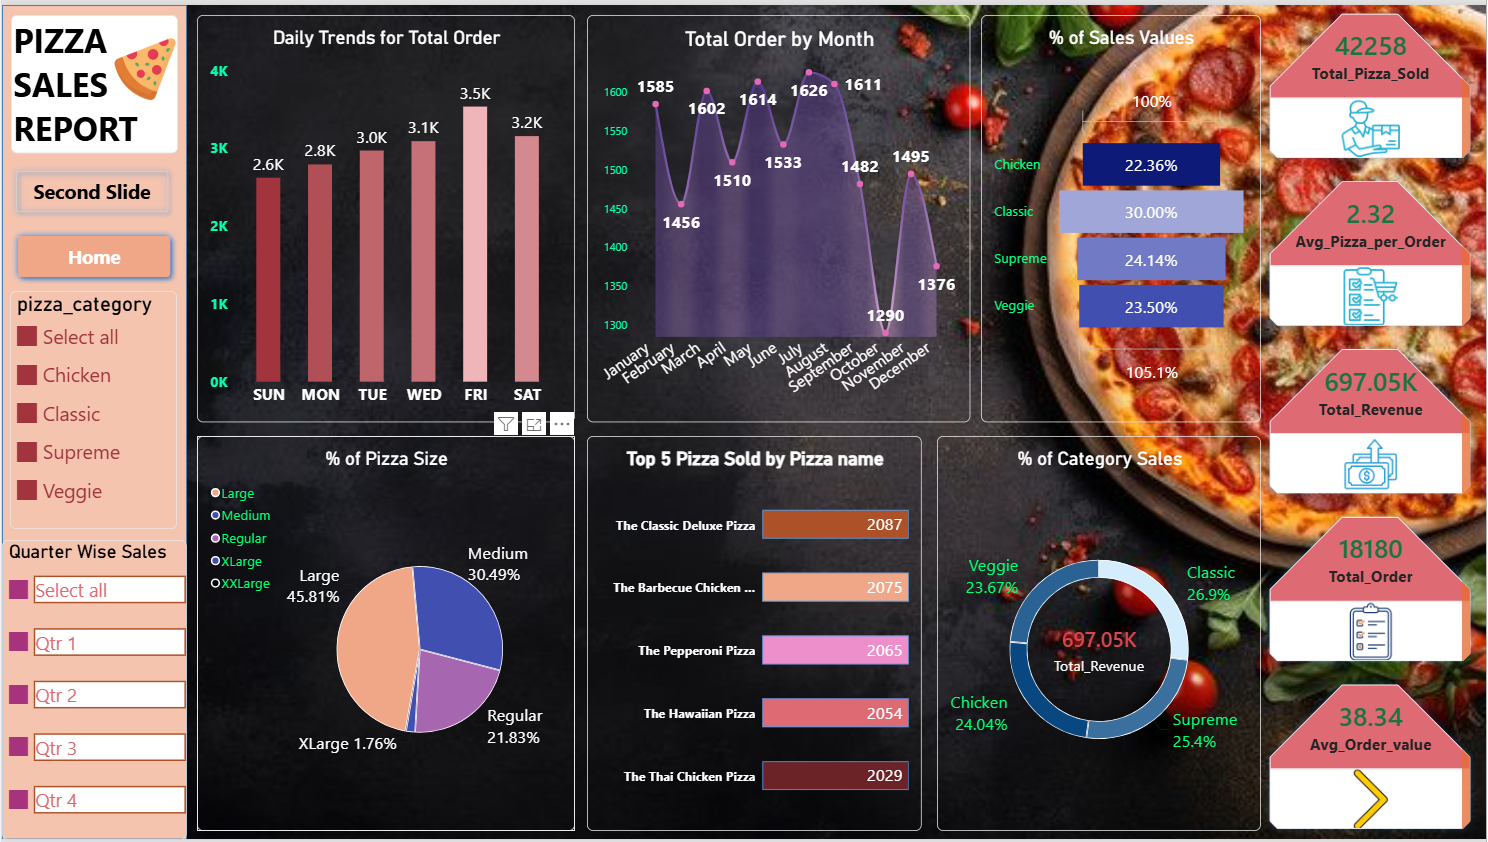

The dashboard page shown, as its layout file describes it:
{"tool":"powerbi","page":{"name":"Home","canvas":[1920,1080],"ordinal":0},"visuals":[{"type":"shape","box":[0,0,239.3,1079.6],"z":0},{"type":"cardVisual","fields":{"Data":["pizza_sales.Total_Pizza_Sold","pizza_sales.Avg_Pizza_per_Order","pizza_sales.Total_Revenue","pizza_sales.Total_Order","pizza_sales.Avg_Order_value"]},"box":[1628.9,0,282,1079],"z":1000},{"type":"textbox","box":[11.7,13.1,215.9,179.5],"z":2000},{"type":"image","box":[143,13.1,83.2,140.1],"z":3000},{"type":"columnChart","title":"Daily Trends for Total Order","fields":{"Category":["pizza_sales.Order Day"],"Y":["pizza_sales.Total_Order"]},"box":[252.4,12.6,488.5,527.4],"z":4000},{"type":"areaChart","title":"Total Order by Month","fields":{"Y":["pizza_sales.Total_Order"],"Category":["pizza_sales.Month Name"]},"box":[757.3,12.6,496,527.4],"z":5000},{"type":"donutChart","title":"% of Category Sales","fields":{"Category":["pizza_sales.pizza_category"],"Y":["pizza_sales.Total_Revenue"]},"box":[1209.3,557.6,419.4,511.1],"z":6000},{"type":"pieChart","title":"% of Pizza Size","fields":{"Category":["pizza_sales.pizza_size"],"Y":["pizza_sales.Total_Revenue"]},"box":[252.4,557.6,488.5,511.1],"z":7000},{"type":"funnel","title":"% of Sales Values","fields":{"Category":["pizza_sales.pizza_category"],"Y":["pizza_sales.Total_Pizza_Sold"]},"box":[1267.1,12.6,361.7,527.4],"z":8000},{"type":"slicer","fields":{"Values":["pizza_sales.pizza_category"]},"box":[10.2,370.6,215.9,307.8],"z":9000},{"type":"slicer","title":"Order Date","fields":{"Values":["pizza_sales.order_date.Variation.Date Hierarchy.Quarter"]},"box":[0,691.6,239.3,388.1],"z":10000},{"type":"clusteredBarChart","title":"Top 5 Pizza Sold by Pizza name","fields":{"Category":["pizza_sales.pizza_name"],"Y":["pizza_sales.Total_Pizza_Sold"]},"box":[757.3,557.6,433.3,511.1],"z":11000},{"type":"pageNavigator","box":[11.6,289.8,215.9,71.5],"z":12000},{"type":"pageNavigator","box":[9.1,205.7,215.9,71.5],"z":13000}]}

Visuals, with their boxes in screenshot pixels (x1, y1, x2, y2), scaled from the page's 1920x1080 canvas onto the 1488x842 screenshot:
shape: [0, 0, 185, 841]
cardVisual - pizza_sales.Total_Pizza_Sold x pizza_sales.Avg_Pizza_per_Order: [1262, 0, 1481, 841]
textbox: [9, 10, 176, 150]
image: [111, 10, 175, 119]
"Daily Trends for Total Order" columnChart: [196, 10, 574, 421]
"Total Order by Month" areaChart: [587, 10, 971, 421]
"% of Category Sales" donutChart: [937, 435, 1262, 833]
"% of Pizza Size" pieChart: [196, 435, 574, 833]
"% of Sales Values" funnel: [982, 10, 1262, 421]
slicer - pizza_sales.pizza_category: [8, 289, 175, 529]
"Order Date" slicer: [0, 539, 185, 841]
"Top 5 Pizza Sold by Pizza name" clusteredBarChart: [587, 435, 923, 833]
pageNavigator: [9, 226, 176, 282]
pageNavigator: [7, 160, 174, 216]
